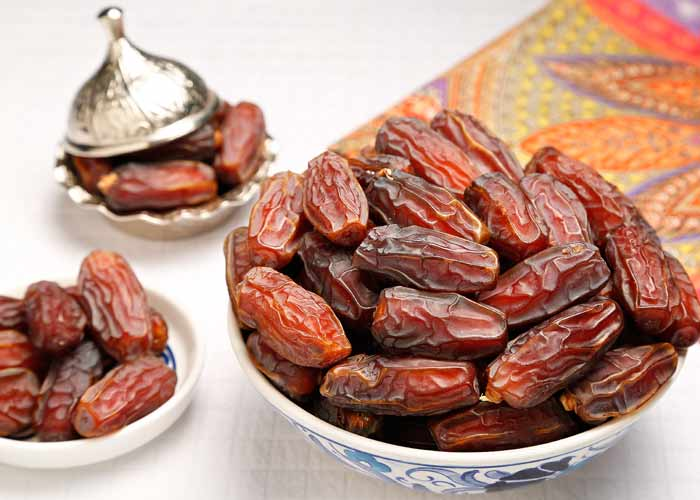hurmaa: (231, 256, 354, 375), (371, 282, 513, 362), (295, 147, 375, 246)
